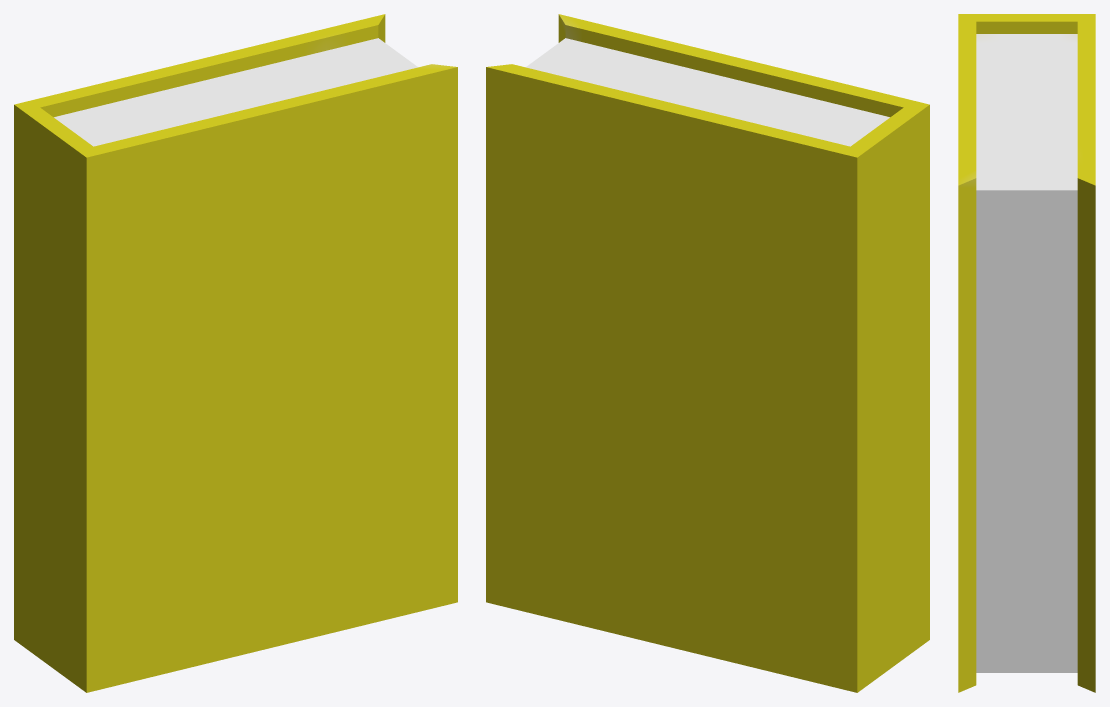
Rendered from book_02.fbx.
The picture shows the model from 3 angles, left to right: view 1: azimuth 30°, elevation 25°; view 2: azimuth 150°, elevation 25°; view 3: azimuth 270°, elevation 25°; orthographic projection. The views are drawn at different scales.
Visible parts, largest first — view 1: book_02; view 2: book_02; view 3: book_02.
Part boxes in pixels (x1,y1,x2,y2): book_02: (14,14,457,692); book_02: (486,14,929,692); book_02: (958,14,1095,692).
Bounding box in the file's own units: 145 × 200 × 49.09.
